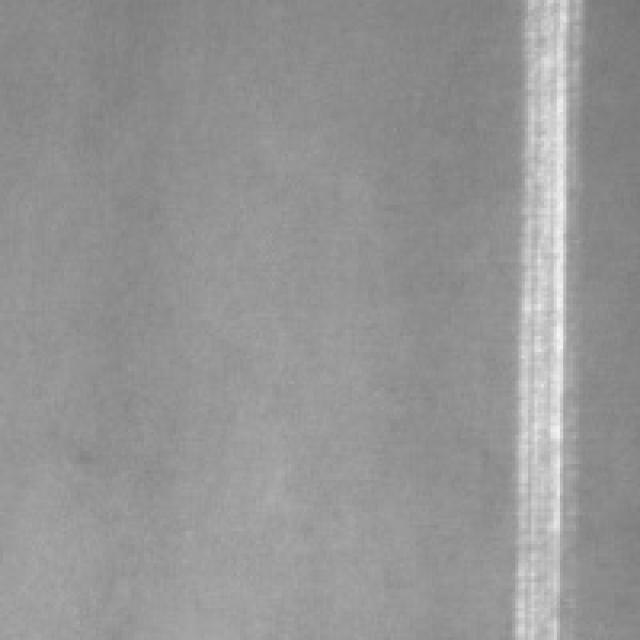scratches: (496, 0, 582, 637)
